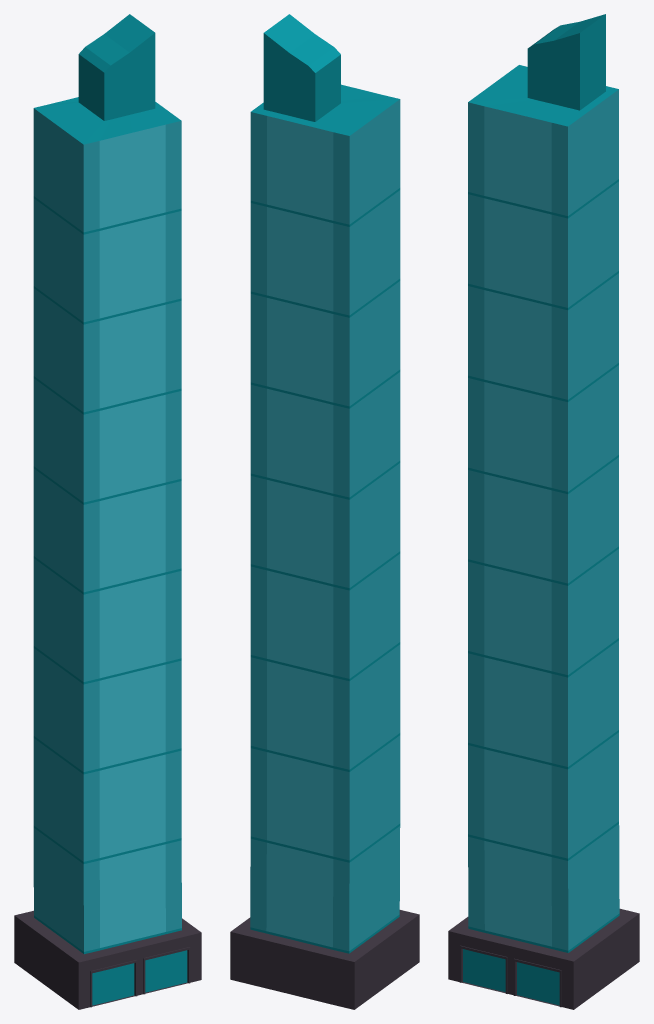
Rendered from tower.fbx.
3 views of the same model, side by side, from view 1: azimuth 30°, elevation 25°; view 2: azimuth 150°, elevation 25°; view 3: azimuth 330°, elevation 25° (orthographic). The views are drawn at different scales.
Parts seen in each view (by area): view 1: Building; view 2: Building; view 3: Building.
Part boxes in pixels (x1,y1,x2,y2): Building: (14,14,201,1009); Building: (230,14,419,1009); Building: (448,14,639,1009).
Bounding box in the file's own units: 7.6 × 55.14 × 6.96.
